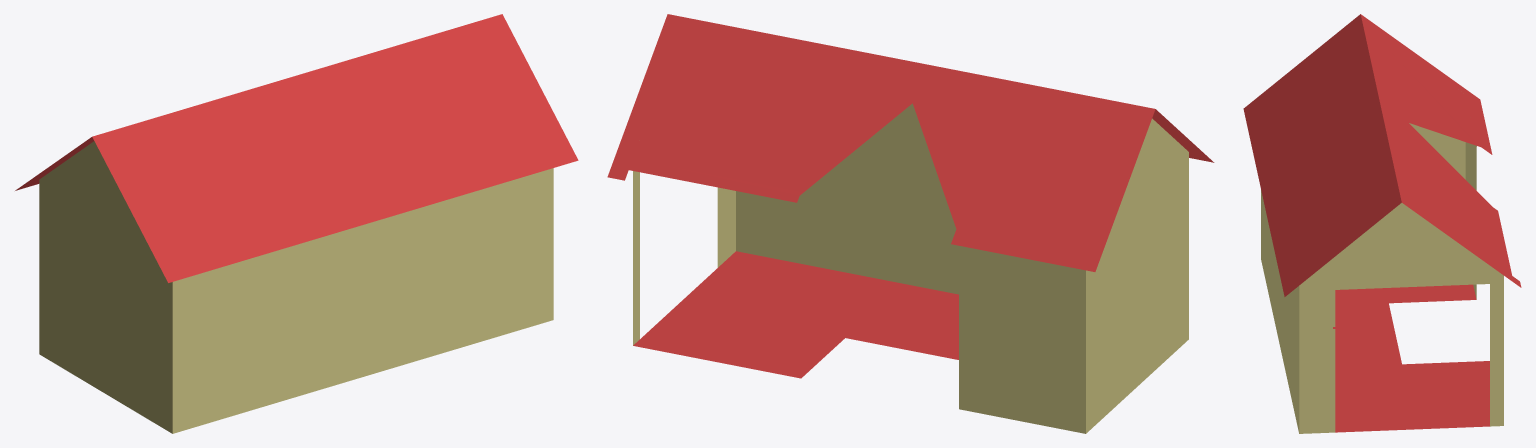
The picture shows the model from 3 angles, left to right: view 1: azimuth 30°, elevation 25°; view 2: azimuth 150°, elevation 25°; view 3: azimuth 270°, elevation 25°; orthographic projection. The views are drawn at different scales.
Size of the model in its own units: 21.87 by 12.99 by 12.07.
